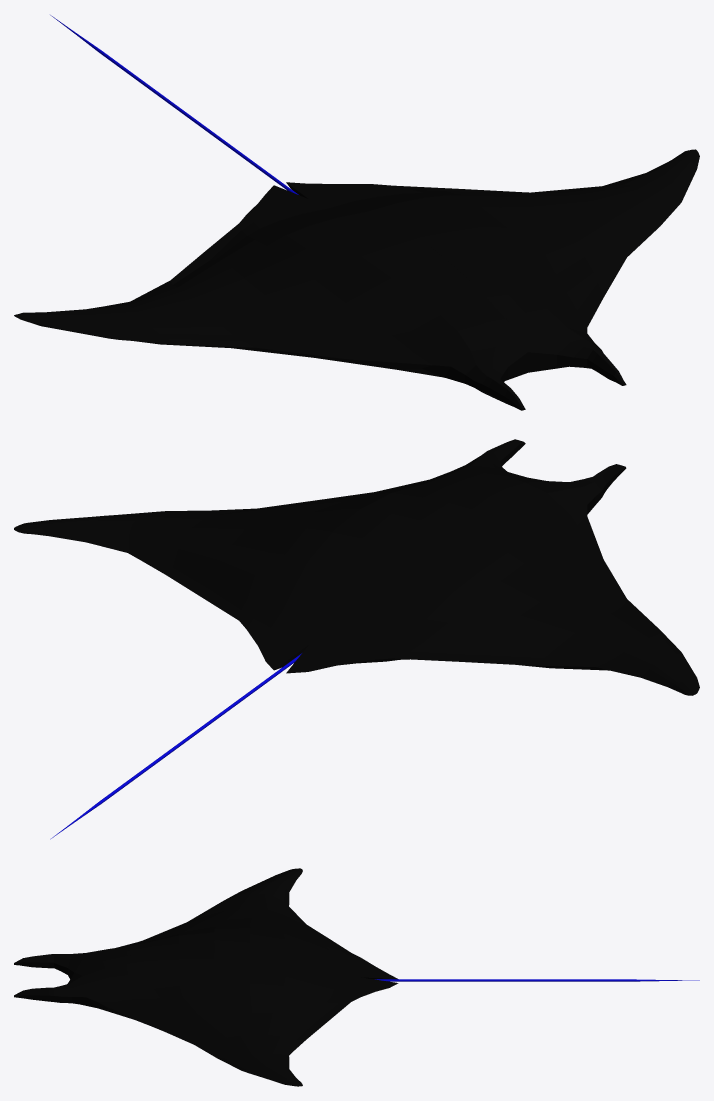
File: mobulaNew.fbx
3 views of the same model, one above another, from view 1: azimuth 30°, elevation 25°; view 2: azimuth 150°, elevation 25°; view 3: azimuth 270°, elevation 25° (orthographic). The views are drawn at different scales.
Visible parts, largest first — view 1: Cube; view 2: Cube; view 3: Cube.
Part boxes in pixels (box(x1,y1,x2,y2)): Cube: box(14, 15, 699, 410); Cube: box(14, 439, 699, 839); Cube: box(14, 868, 699, 1086).
Bounding box in the file's own units: 1192 × 143 × 1588.
